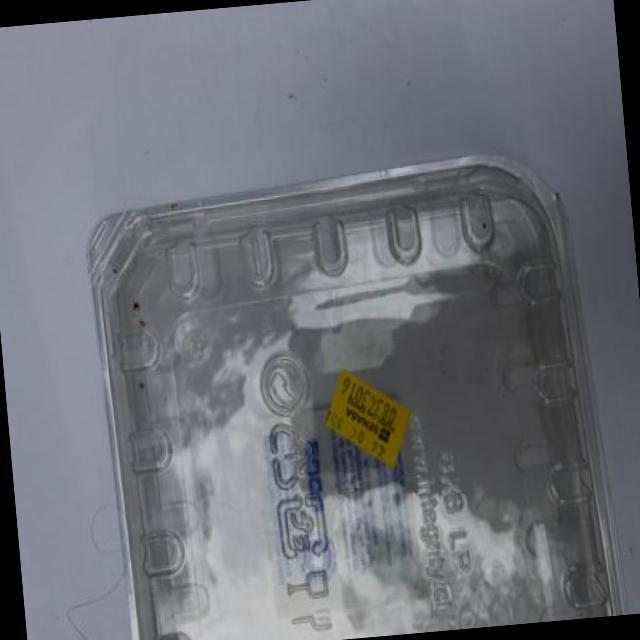Trash: (75, 169, 628, 640)
